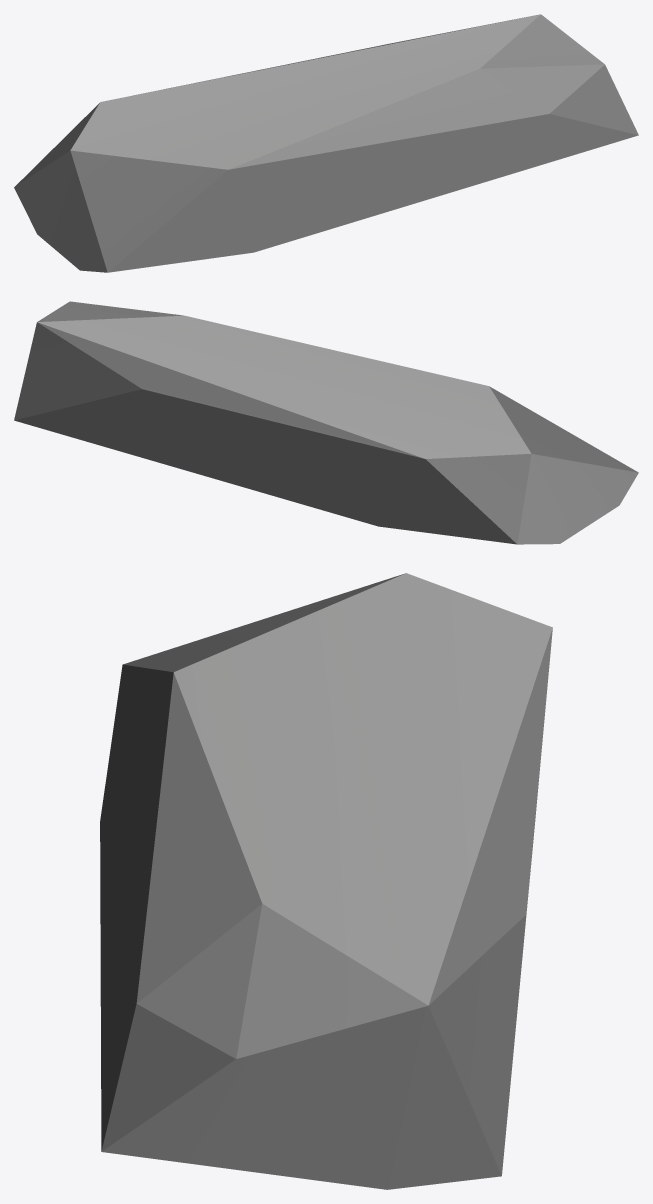
The model's file is stones5.fbx.
The picture shows the model from 3 angles, top to bottom: view 1: azimuth 30°, elevation 25°; view 2: azimuth 150°, elevation 25°; view 3: azimuth 270°, elevation 25°; orthographic projection. The views are drawn at different scales.
Visible parts, largest first — view 1: stones5; view 2: stones5; view 3: stones5.
Boxes of the visible parts, left/top/right/bottom form: stones5: left=14, top=14, right=638, bottom=272; stones5: left=14, top=301, right=638, bottom=544; stones5: left=100, top=573, right=552, bottom=1189.
Bounding box in the file's own units: 24.65 × 4.24 × 9.11.
